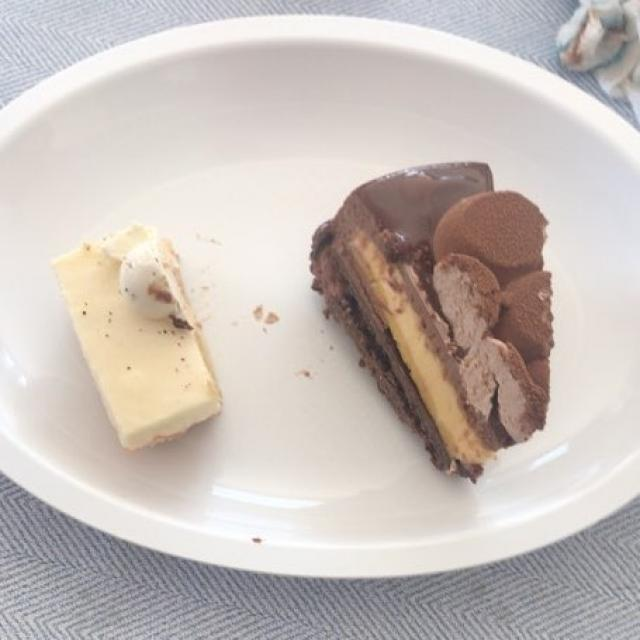cake: (314, 162, 562, 496)
